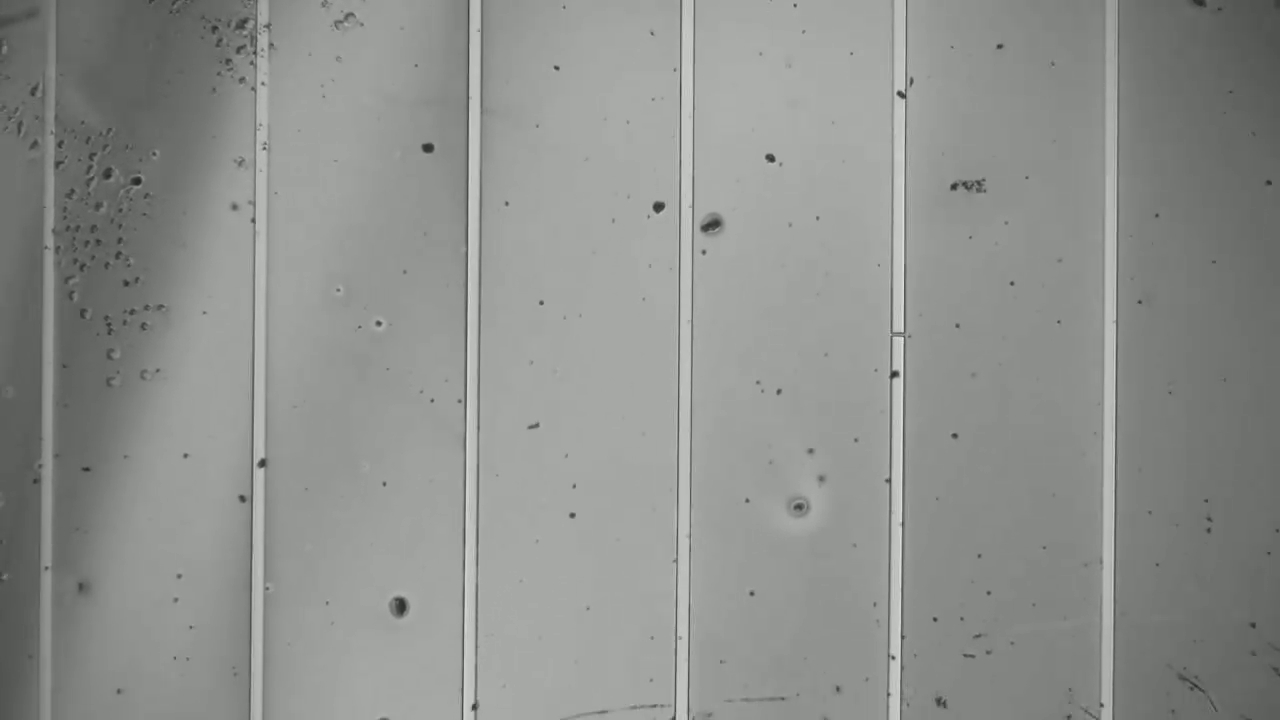open: (884, 322, 911, 342)
scratch: (1174, 662, 1230, 718)
stains_enbedded: (884, 358, 910, 385), (245, 453, 276, 472), (888, 78, 910, 104)
